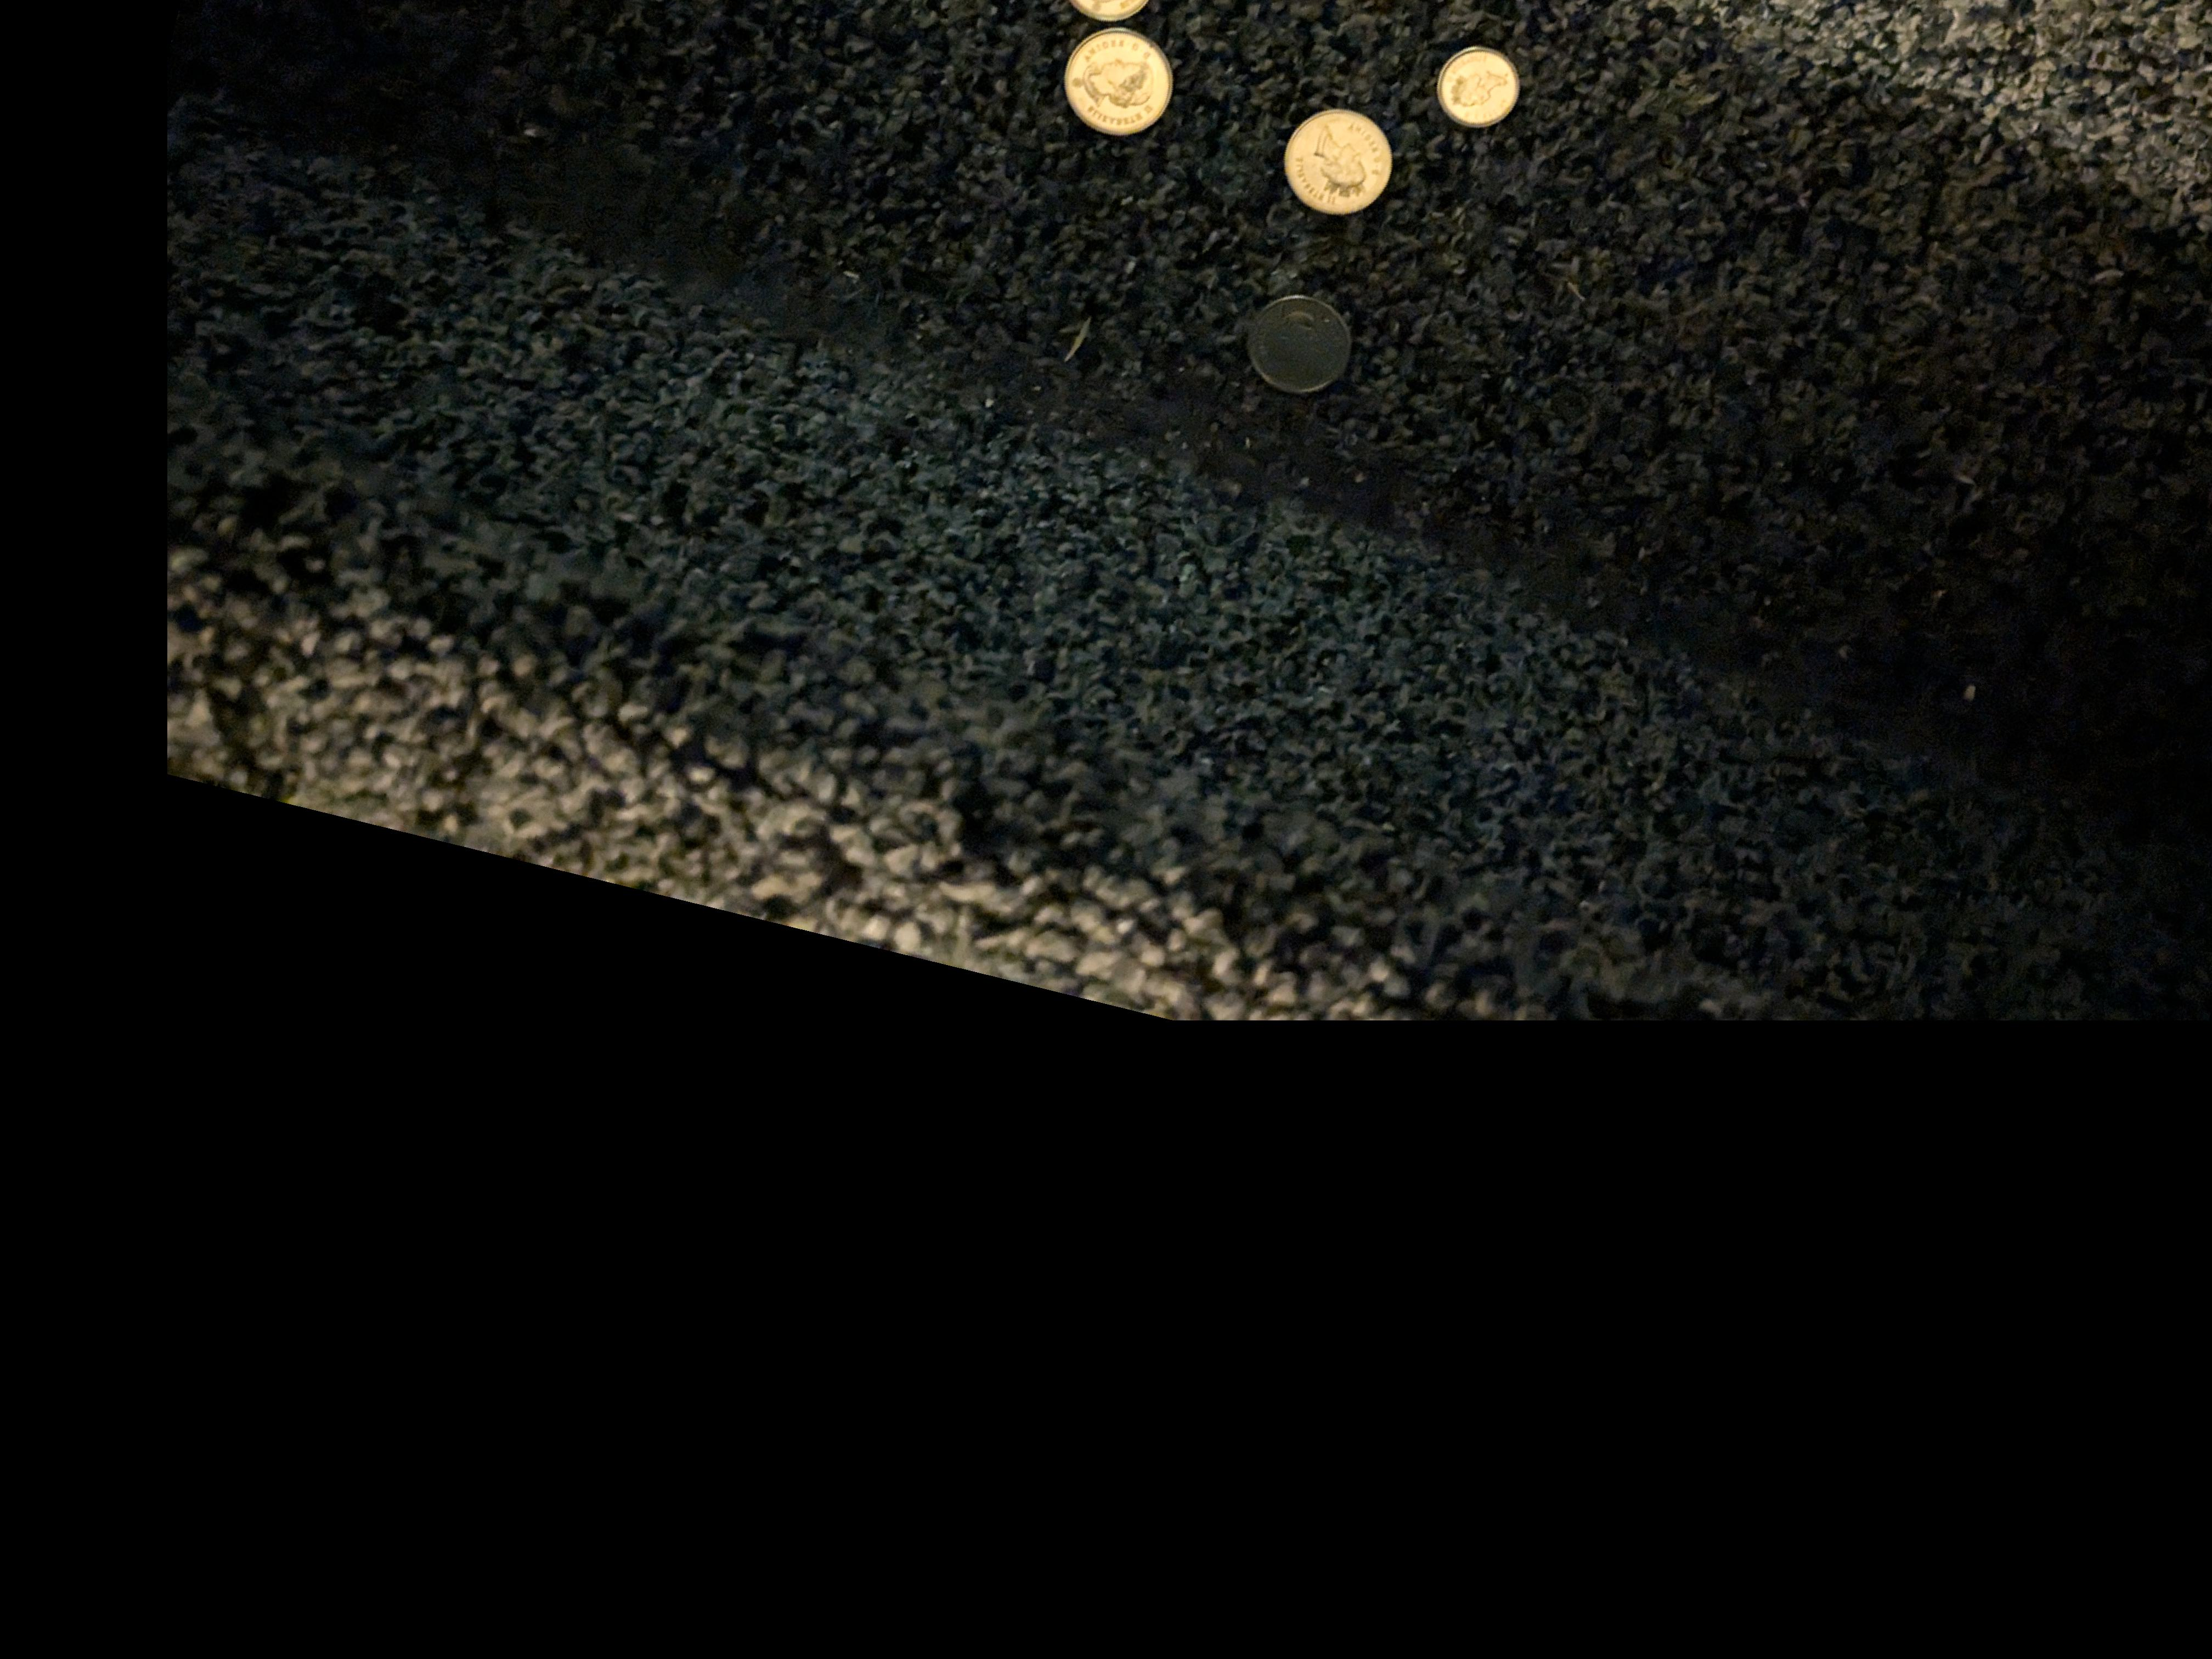dime: (1440, 47, 1519, 129)
nickel: (1244, 295, 1355, 394)
quarter: (1284, 105, 1395, 211), (1061, 30, 1176, 132)
